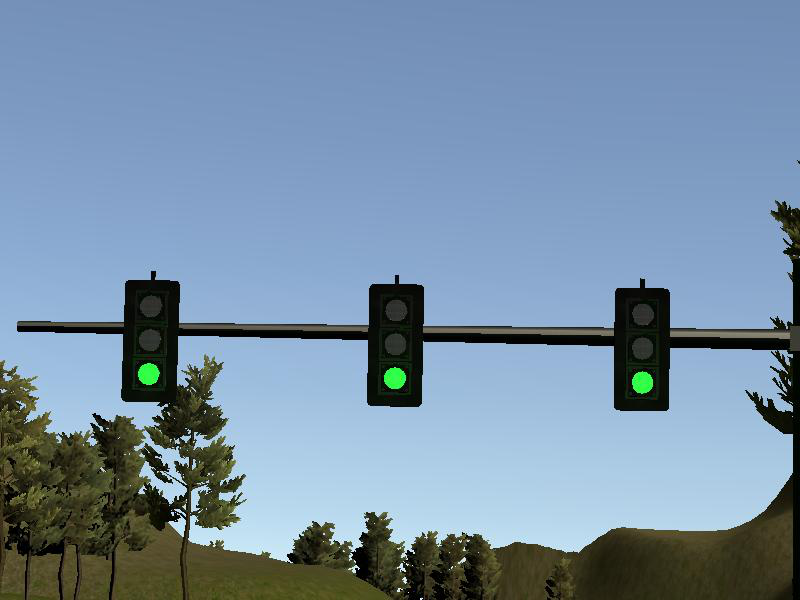green: (122, 280, 179, 401), (614, 289, 670, 411), (369, 286, 422, 407)
